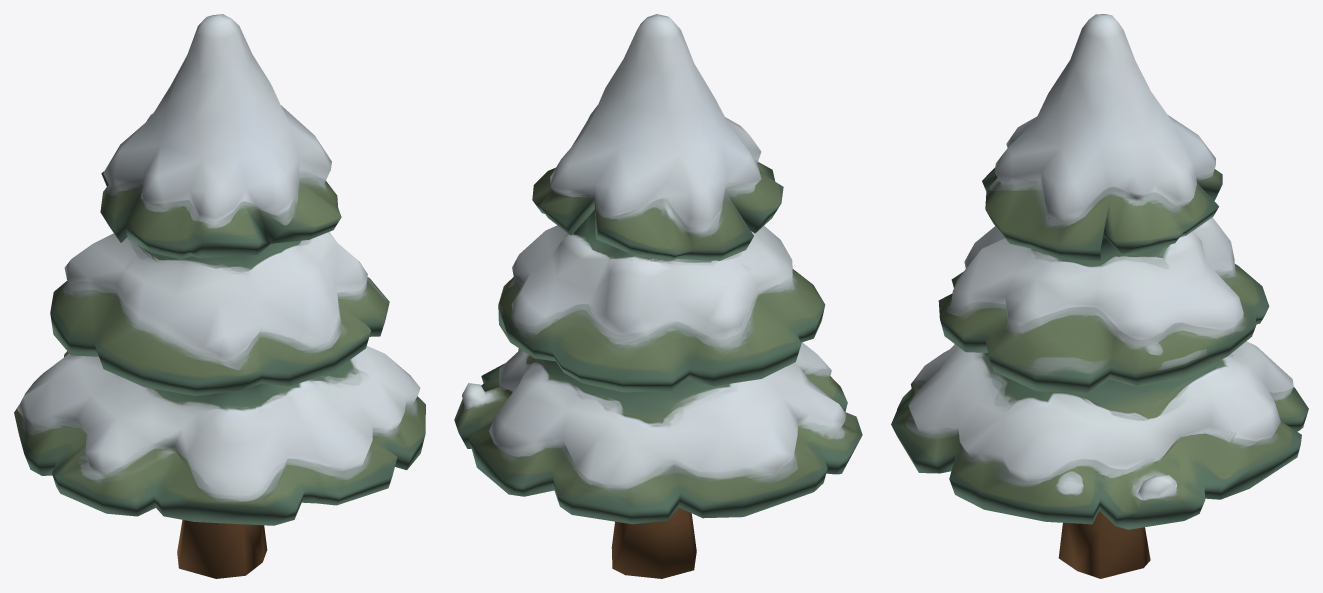
The model's file is map_pine_snow_tripo.glb.
3 views of the same model, side by side, from view 1: azimuth 30°, elevation 25°; view 2: azimuth 150°, elevation 25°; view 3: azimuth 270°, elevation 25° (orthographic).
Parts seen in each view (by area): view 1: tripo_node_3fedaf67-dcef-47a1-a16d-6c88406ba869; view 2: tripo_node_3fedaf67-dcef-47a1-a16d-6c88406ba869; view 3: tripo_node_3fedaf67-dcef-47a1-a16d-6c88406ba869.
Part boxes in pixels (left/top/right/bottom): tripo_node_3fedaf67-dcef-47a1-a16d-6c88406ba869: left=14, top=14, right=425, bottom=578; tripo_node_3fedaf67-dcef-47a1-a16d-6c88406ba869: left=454, top=14, right=862, bottom=578; tripo_node_3fedaf67-dcef-47a1-a16d-6c88406ba869: left=891, top=14, right=1308, bottom=578.
Bounding box in the file's own units: 0.6895 × 0.998 × 0.7012.
1 material, 1 textured.
